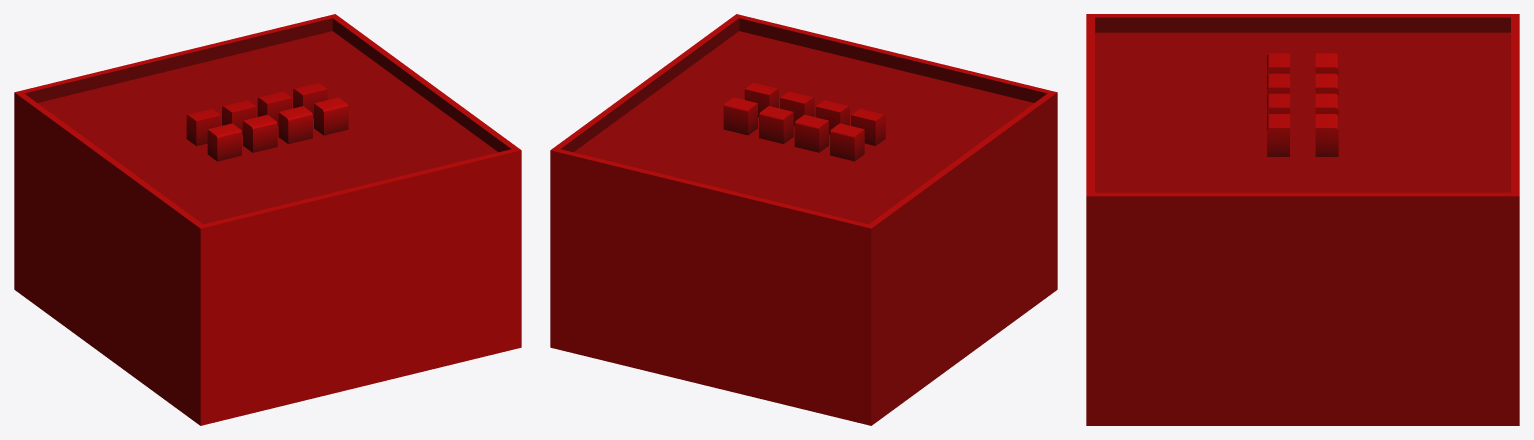
The model's file is buildings-industrial-smallindustrialstructure_v6.fbx.
The picture shows the model from 3 angles, left to right: view 1: azimuth 30°, elevation 25°; view 2: azimuth 150°, elevation 25°; view 3: azimuth 270°, elevation 25°; orthographic projection. The views are drawn at different scales.
Parts seen in each view (by area): view 1: SmallIndustrialStructure_v6; view 2: SmallIndustrialStructure_v6; view 3: SmallIndustrialStructure_v6.
Part boxes in pixels (bbox=[...]): SmallIndustrialStructure_v6: bbox=[14, 14, 521, 425]; SmallIndustrialStructure_v6: bbox=[550, 14, 1057, 425]; SmallIndustrialStructure_v6: bbox=[1086, 14, 1519, 425].
Bounding box in the file's own units: 10.78 × 6.73 × 10.83.
